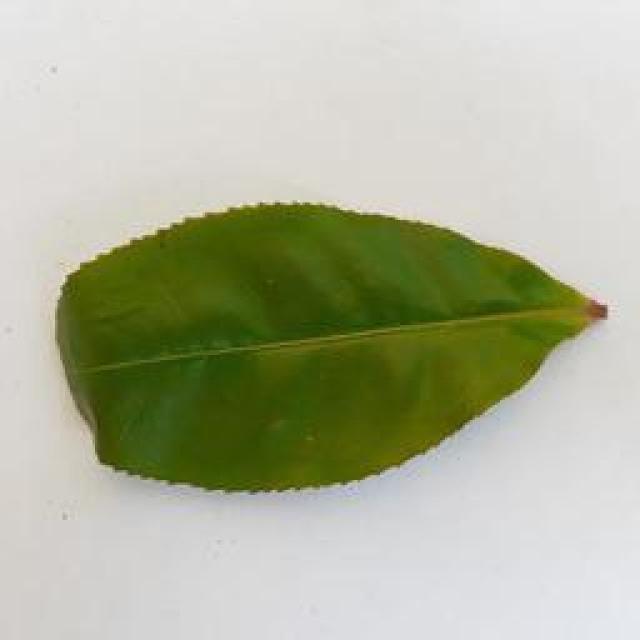Healthy: (53, 197, 611, 516)
